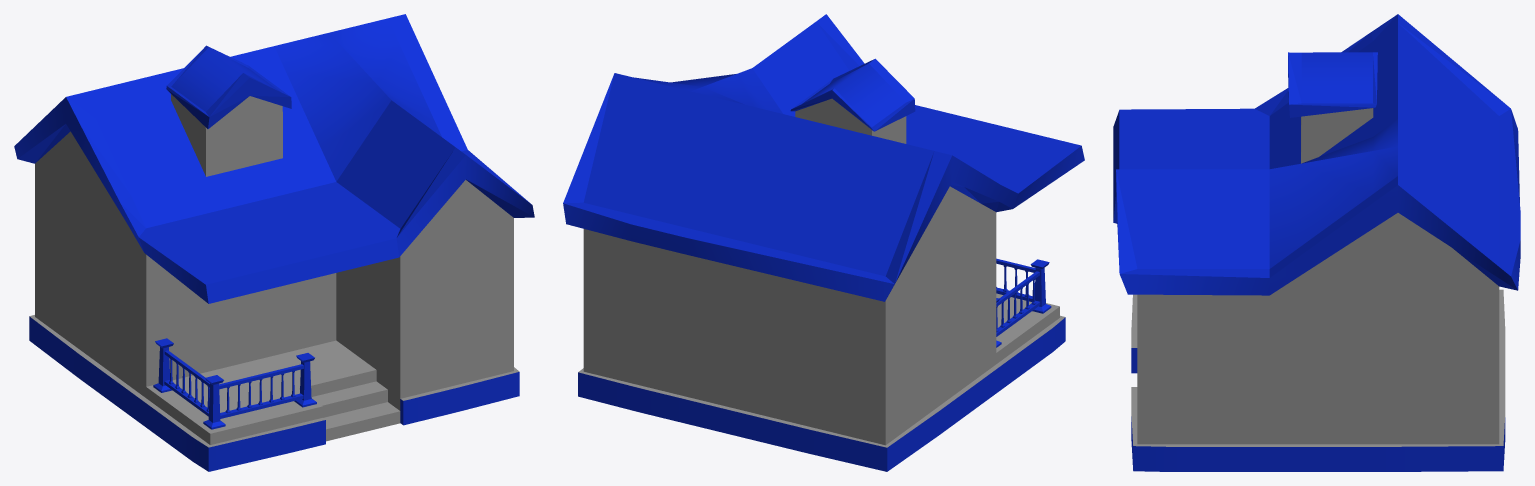
File: casa2.FBX
3 renders of one model, left to right at view 1: azimuth 30°, elevation 25°; view 2: azimuth 150°, elevation 25°; view 3: azimuth 270°, elevation 25°, orthographic. The views are drawn at different scales.
Parts seen in each view (by area): view 1: Box001, Plane001, Plane003, Plane002; view 2: Box001, Plane001; view 3: Box001.
Boxes of the visible parts, x1,y1,x2,y2 form: Box001: (14,14,534,471); Plane001: (203,375,225,429); Plane003: (294,353,316,407); Plane002: (153,338,173,392); Box001: (563,14,1084,471); Plane001: (1030,259,1051,313); Box001: (1113,14,1520,471).
Bounding box in the file's own units: 68.96 × 60.37 × 69.42.
